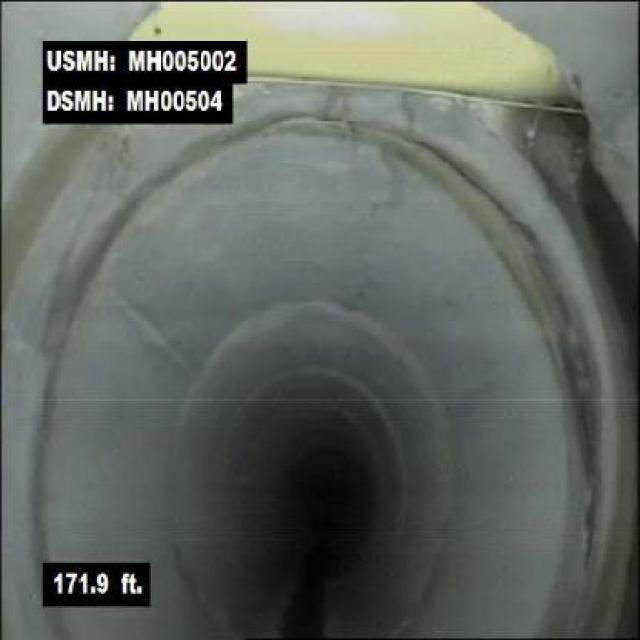Utility intrusion: (112, 1, 592, 117)
